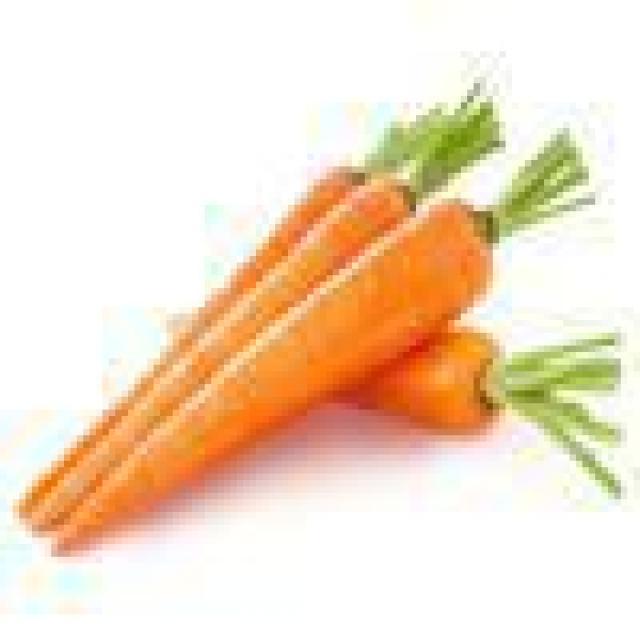Fresh_Carrot: (52, 122, 606, 552), (11, 101, 443, 515), (323, 329, 623, 503)
